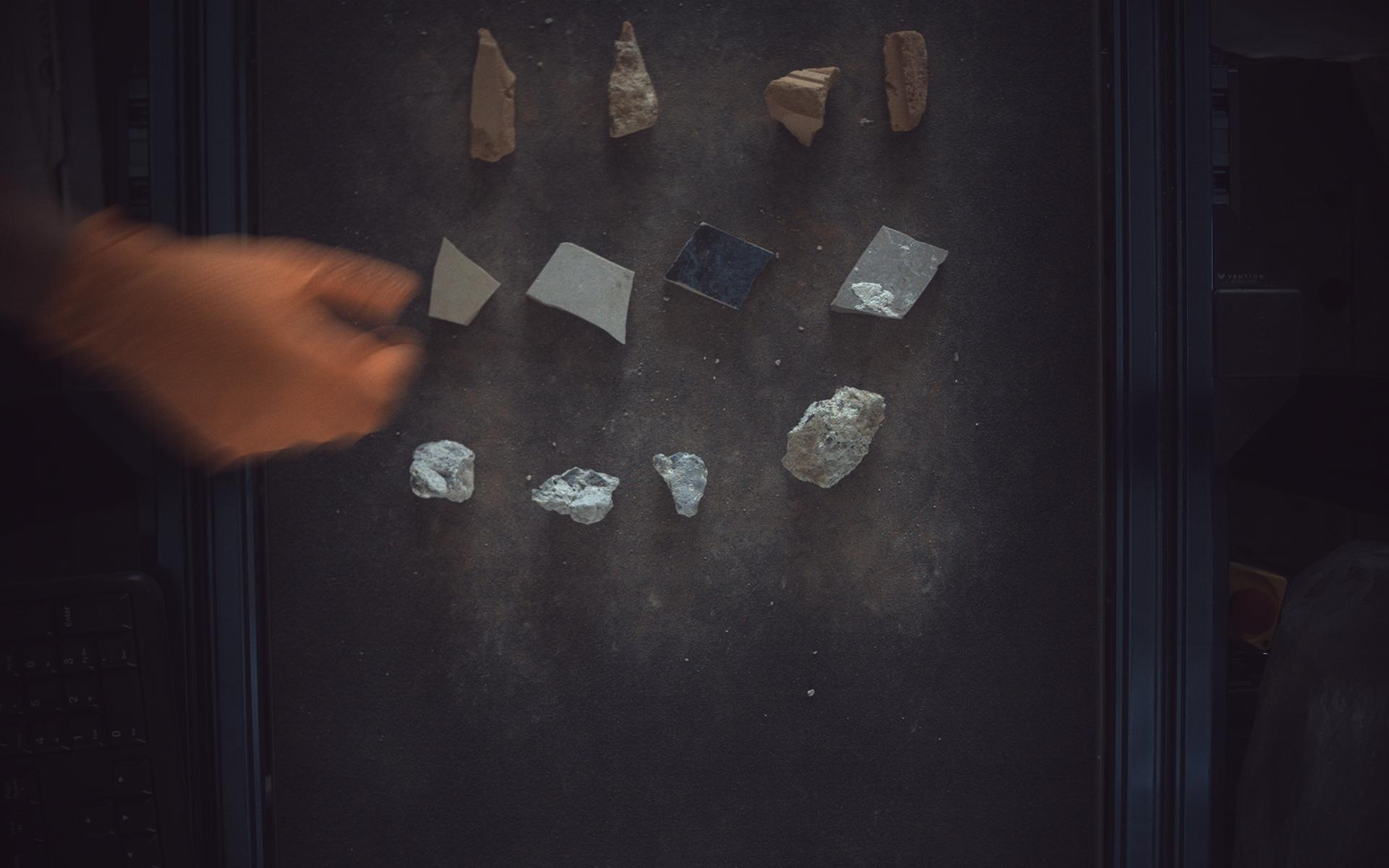brick: (470, 27, 517, 161), (766, 64, 842, 145), (610, 19, 660, 137), (885, 29, 930, 131)
concrete: (784, 387, 887, 488), (532, 467, 620, 525), (409, 441, 475, 503), (654, 453, 708, 517)
tile: (527, 242, 635, 344), (832, 226, 950, 318), (666, 222, 777, 309), (429, 237, 500, 325)
